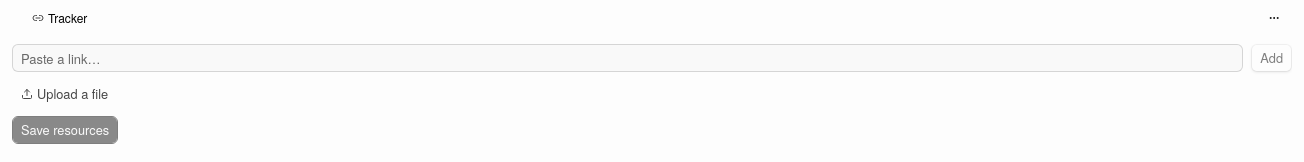
Scenario: naming a resource is a second, optional act › Escape abandons the rename and leaves the standing name
This screenshot has width=1304, height=162.
Click the button named "More for Tracker" at (1274, 18), box [1260,4,1288,32]
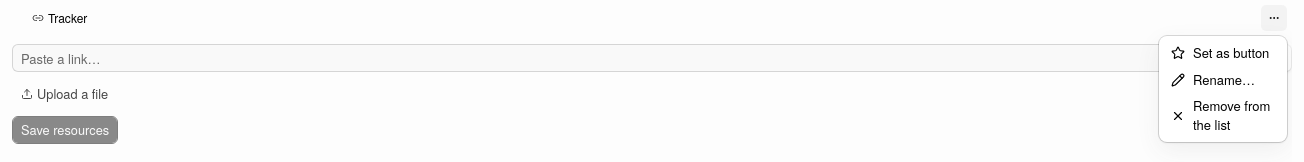
Result: the text "Rename…" is shown
Click the menu item "Rename…" at (1213, 79), box [1171,70,1255,89]
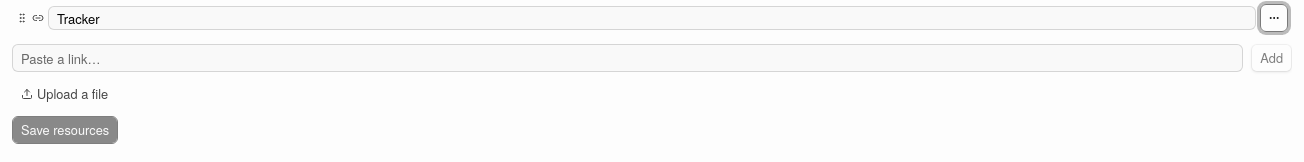
Replace the text in the field named "Rename Tracker" with "Something else" at (652, 18), box [48,6,1256,30]
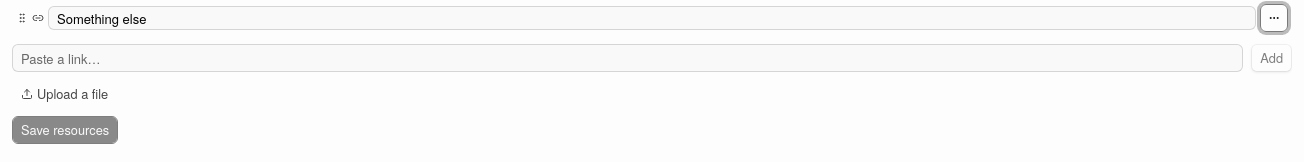
Press Escape in the field named "Rename Tracker", box [48,6,1256,30]
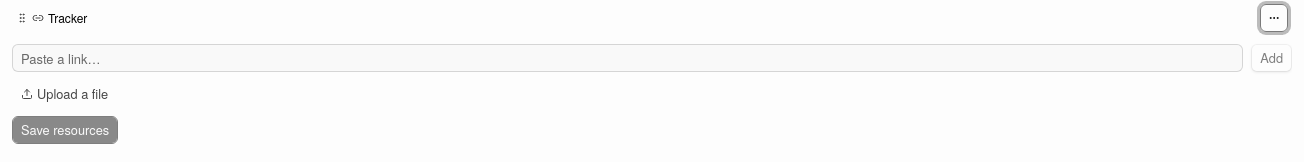
Expected: the text "Something else" is not shown
Result: the text "Tracker" is shown at [48,8,197,26]
